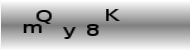8: (86, 23, 99, 37)
K: (105, 8, 120, 22)
Q: (35, 9, 53, 25)
m: (22, 23, 42, 33)
y: (61, 25, 76, 40)
